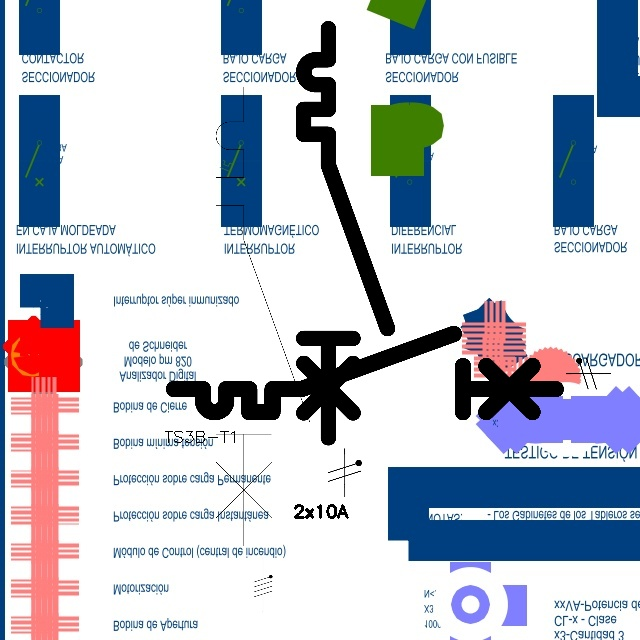interruptor_termomagnetico: (204, 75, 322, 558), (293, 18, 398, 448), (164, 324, 565, 422)
